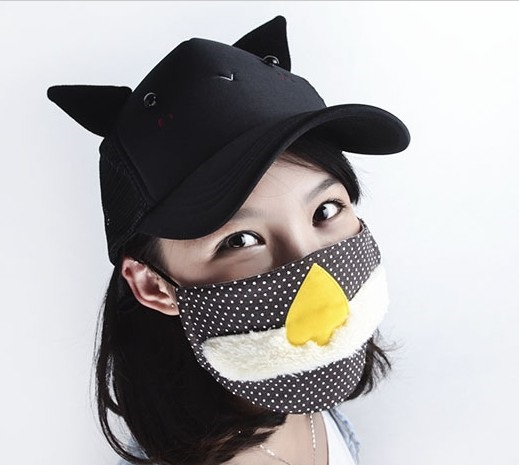face_mask: (169, 138, 373, 396)
